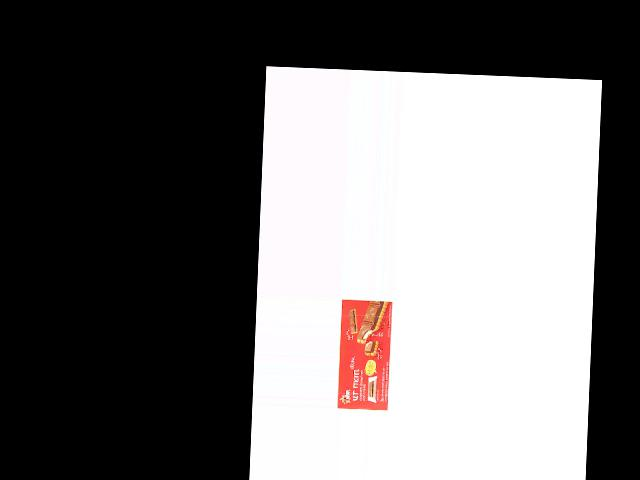chocolate: (336, 298, 392, 412)
